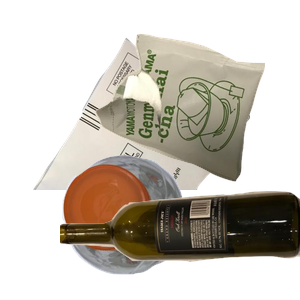glass: (60, 189, 300, 300)
paper: (31, 35, 271, 215)
plastic: (60, 152, 237, 300)
trash: (93, 31, 300, 205)
